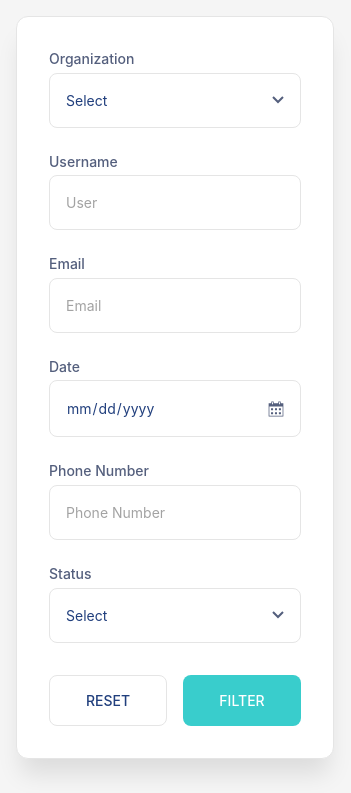
Test: FilterPopup Component › should reset filters to empty
Note: Fill in some filters
Select "Lendsqr" in the dropdown labelled "Organization" at [175, 100], box [49,73,301,128]
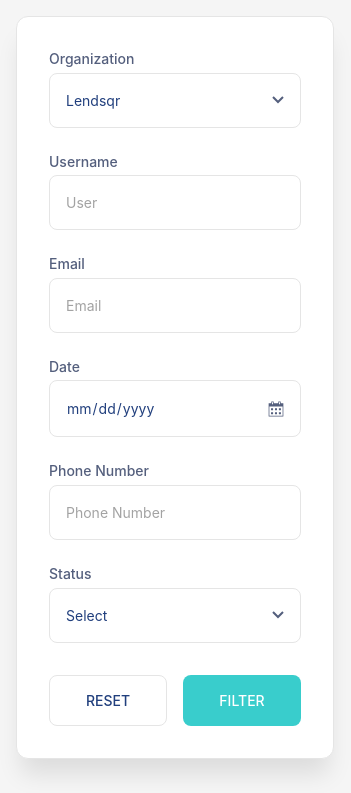
Type "grace" into the field labelled "Username" at [175, 203], box [49,175,301,230]
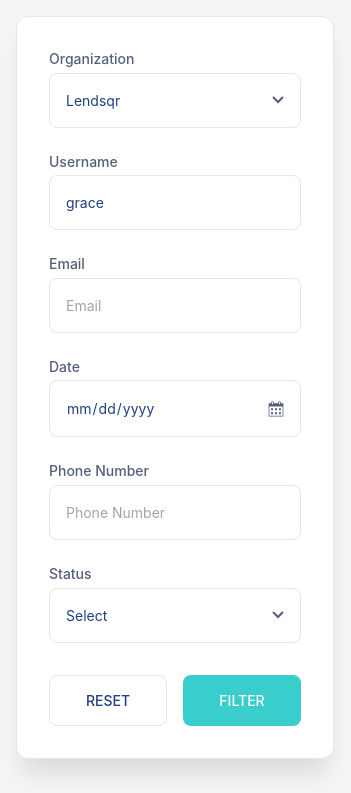
Note: Reset filters
Click the button "Reset" at [108, 700], box [49,675,167,726]
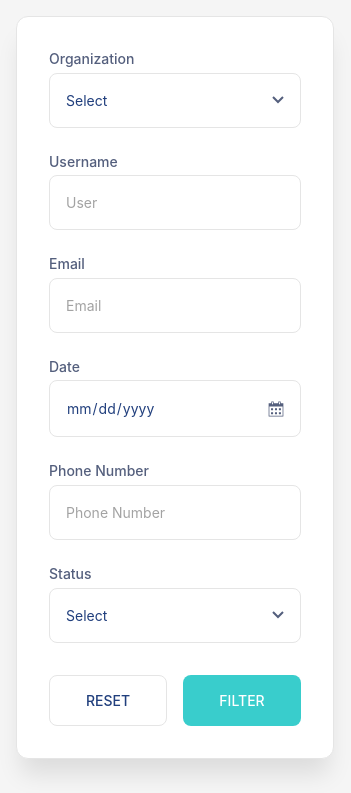
Result: the field labelled "Username" is empty at [49,175,301,230]
